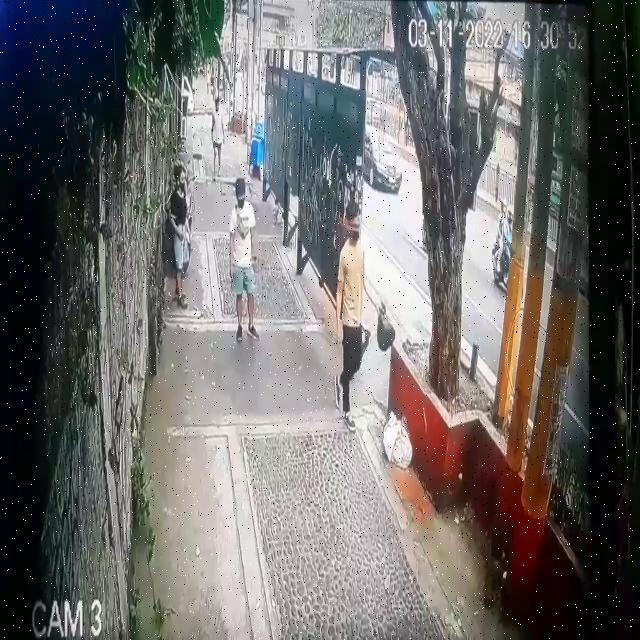garbage_dumping: (370, 293, 398, 352)
